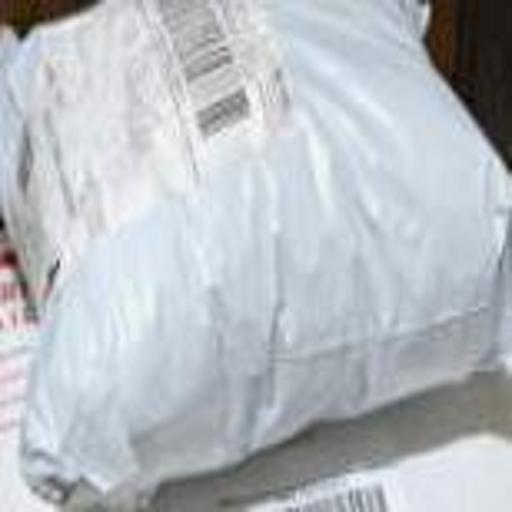Other: (20, 16, 491, 507)
